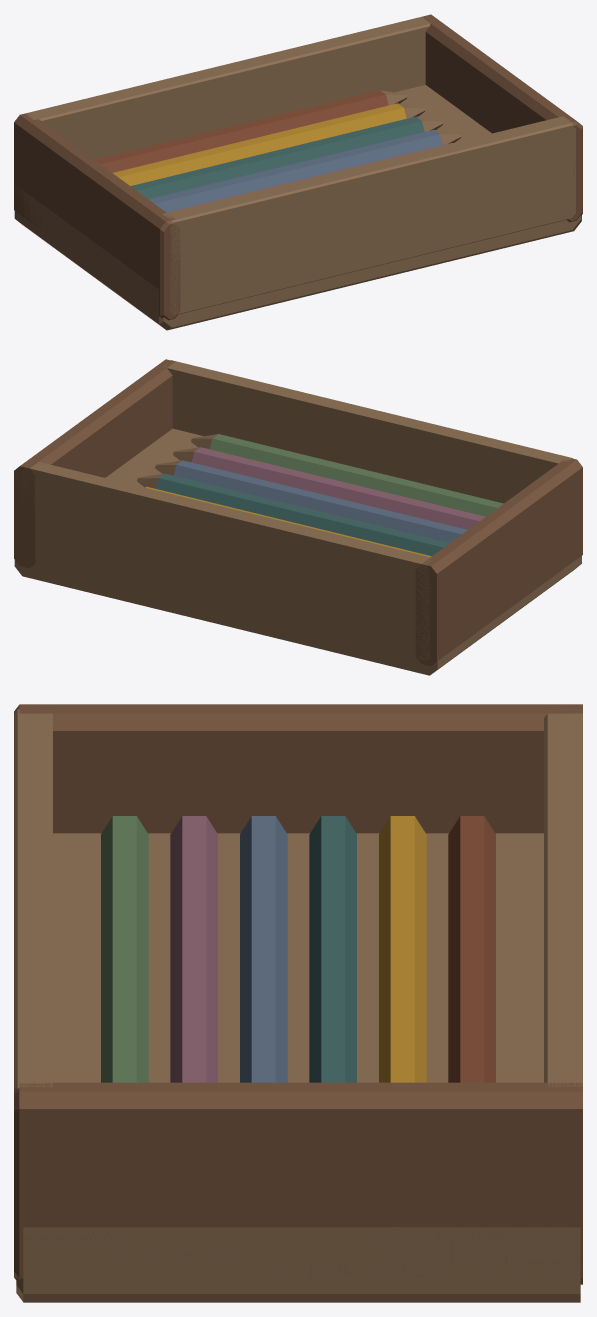
Rendered from H-10_pencils.glb.
3 views of the same model, one above another, from view 1: azimuth 30°, elevation 25°; view 2: azimuth 150°, elevation 25°; view 3: azimuth 270°, elevation 25° (orthographic). The views are drawn at different scales.
Parts seen in each view (by area): view 1: H-10_pencils; view 2: H-10_pencils; view 3: H-10_pencils.
Boxes of the visible parts, x1,y1,x2,y2 form: H-10_pencils: (14, 14, 582, 330); H-10_pencils: (14, 359, 582, 675); H-10_pencils: (14, 704, 582, 1302).
Bounding box in the file's own units: 0.217 × 0.054 × 0.131.
